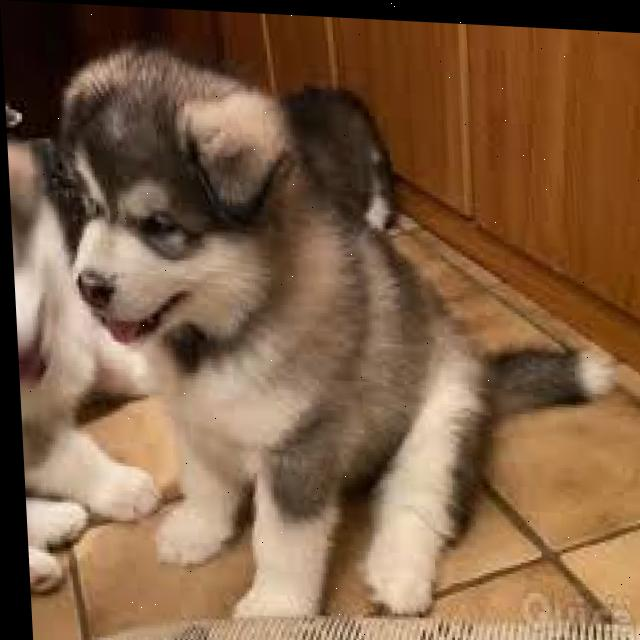ALASKAN_MALAMUTE: (51, 37, 607, 635)
